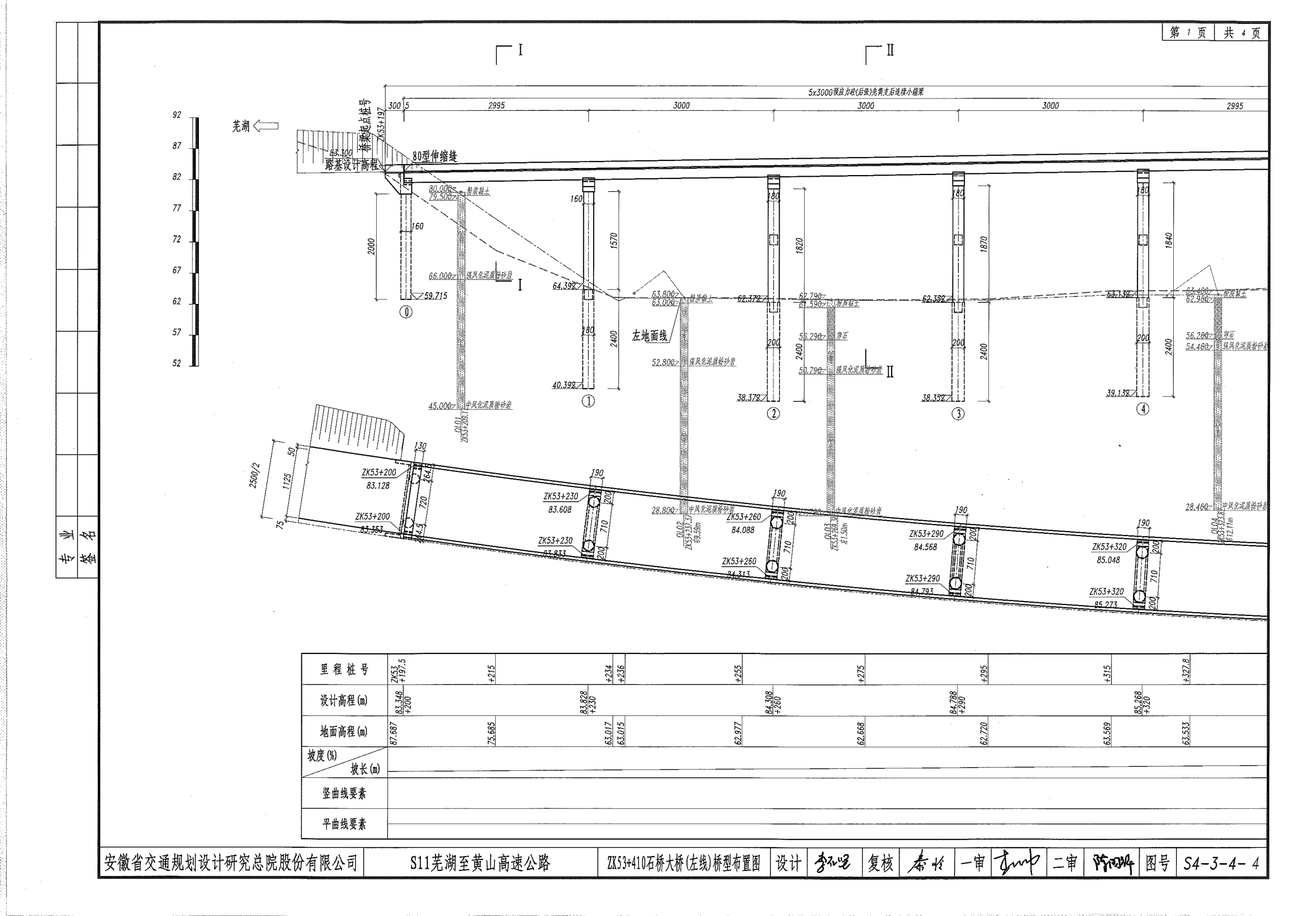A: (225, 35, 1281, 420)
